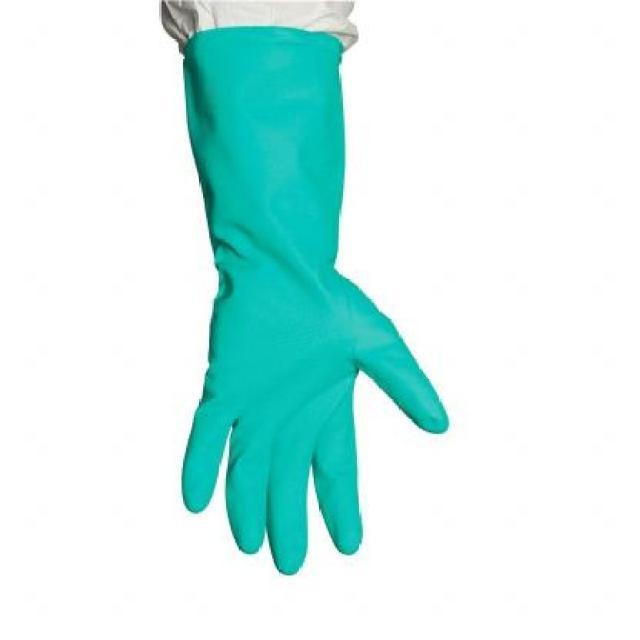gloved_hand: (132, 29, 448, 591)
